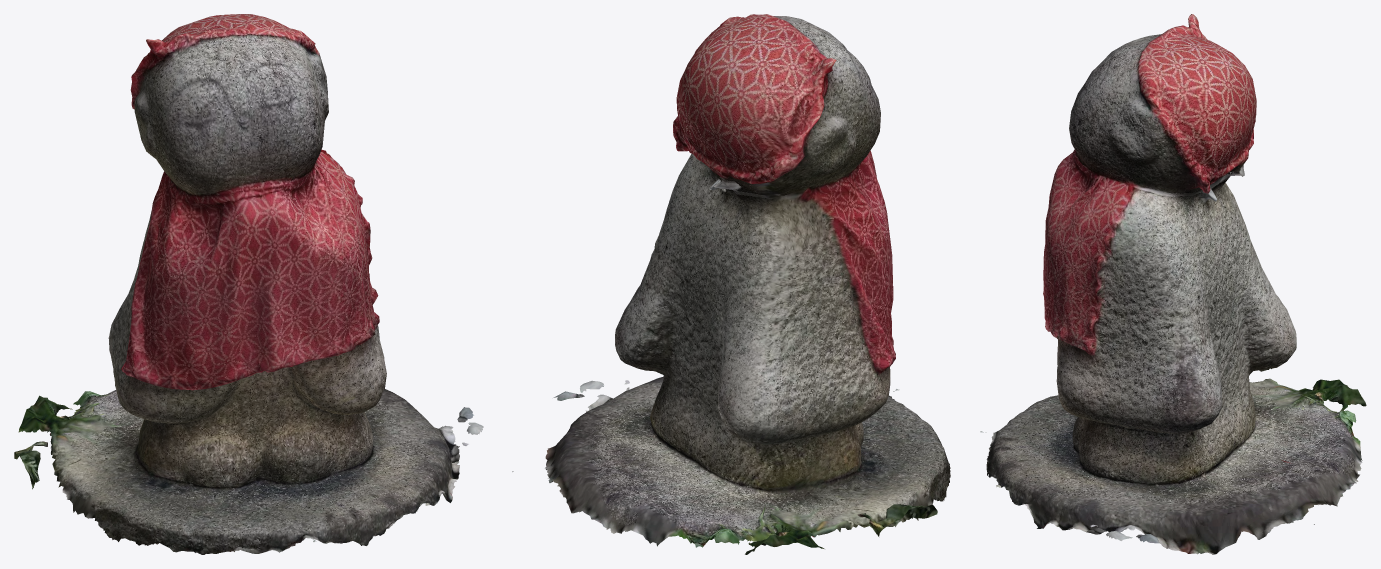
Rendered from arhat-jizo-bib.glb.
3 views of the same model, side by side, from view 1: azimuth 30°, elevation 25°; view 2: azimuth 150°, elevation 25°; view 3: azimuth 270°, elevation 25° (orthographic). The views are drawn at different scales.
Parts seen in each view (by area): view 1: arhat-jizo-bib-low; view 2: arhat-jizo-bib-low; view 3: arhat-jizo-bib-low.
Part boxes in pixels (<box>): arhat-jizo-bib-low: <box>14,14,483,554</box>; arhat-jizo-bib-low: <box>512,14,950,554</box>; arhat-jizo-bib-low: <box>980,14,1366,554</box>.
Bounding box in the file's own units: 0.9307 × 0.9997 × 0.8241.
Materials: 1 (1 with a texture image).
